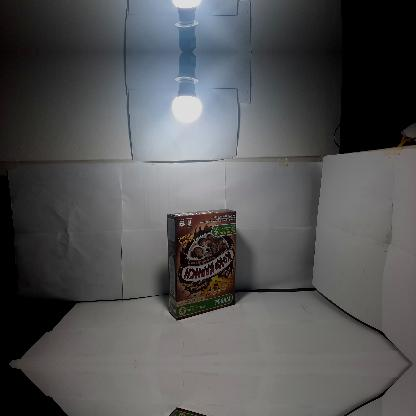Koko-Krunch: (166, 209, 236, 321)
